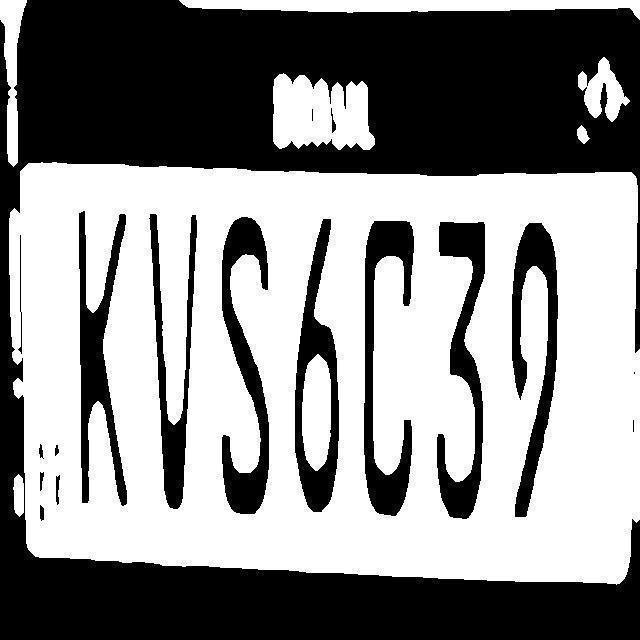3: (432, 220, 498, 526)
6: (288, 215, 344, 510)
9: (498, 210, 561, 526)
c: (348, 218, 424, 518)
k: (66, 215, 140, 510)
s: (208, 208, 278, 508)
v: (137, 214, 200, 500)
